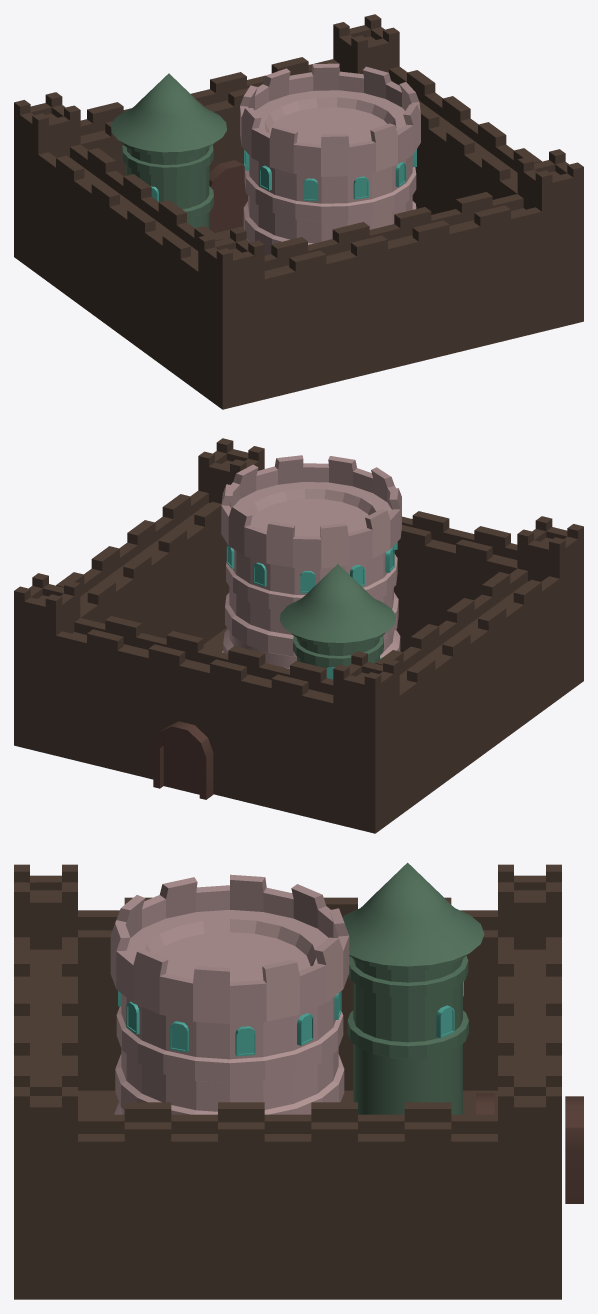
The model's file is castle.fbx.
The picture shows the model from 3 angles, top to bottom: view 1: azimuth 30°, elevation 25°; view 2: azimuth 150°, elevation 25°; view 3: azimuth 270°, elevation 25°; orthographic projection. The views are drawn at different scales.
Parts seen in each view (by area): view 1: castle; view 2: castle; view 3: castle.
Part boxes in pixels (left/top/right/bottom): castle: left=14, top=14, right=583, bottom=409; castle: left=14, top=438, right=583, bottom=833; castle: left=14, top=862, right=583, bottom=1299.
Bounding box in the file's own units: 200 × 108 × 208.
